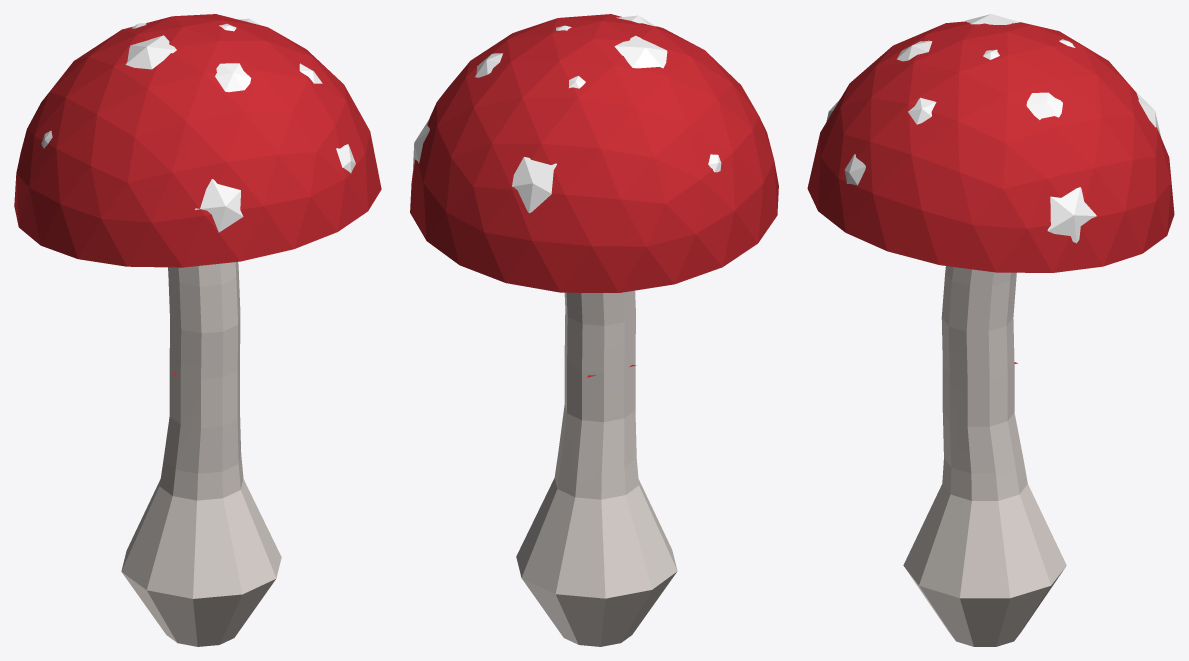
Rendered from Amanita animation.fbx.
The picture shows the model from 3 angles, left to right: view 1: azimuth 30°, elevation 25°; view 2: azimuth 150°, elevation 25°; view 3: azimuth 270°, elevation 25°; orthographic projection.
Parts seen in each view (by area): view 1: Cylinder; view 2: Cylinder; view 3: Cylinder.
Boxes of the visible parts, box(x1,y1,x2,y2) form: Cylinder: box(14, 14, 381, 646); Cylinder: box(410, 14, 778, 646); Cylinder: box(807, 14, 1174, 646).
Size of the model in its own units: 20.23 by 36.19 by 20.17.
